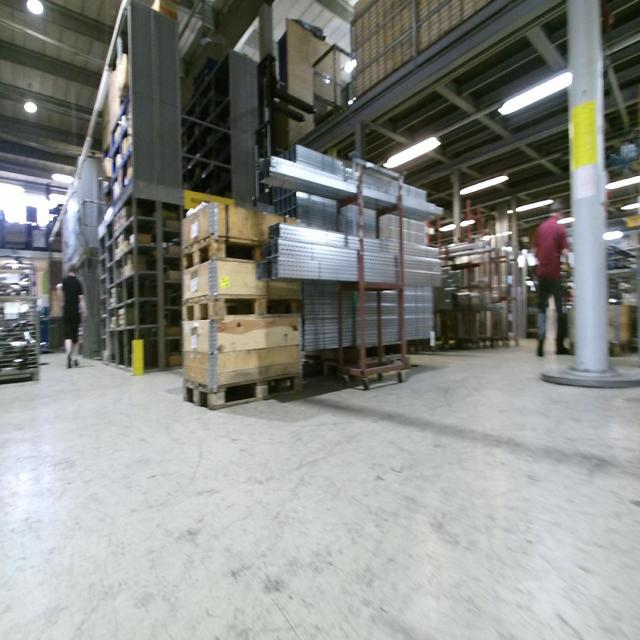pallet: (183, 369, 304, 412), (177, 293, 301, 327), (181, 231, 291, 266), (601, 343, 628, 358)
stillage: (0, 300, 46, 390), (308, 44, 350, 118), (1, 265, 40, 303)
